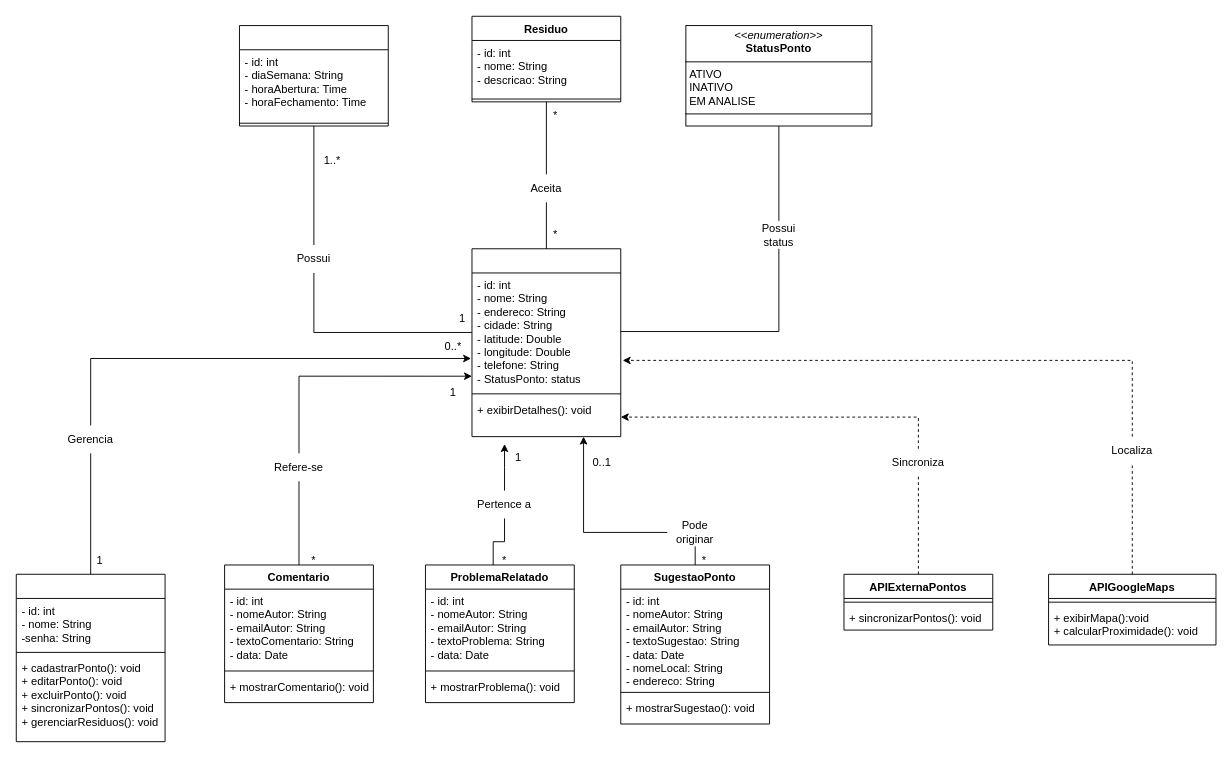
This 1232x761 diagram has some shape labels left out. The shapes that lost their labels are listed below. From the top down, each one's box as (x1, y1, x2, y2) in pixels, then its label:
(239, 25, 388, 126): HorarioFuncionamento
(471, 248, 621, 437): PontoColeta
(15, 573, 165, 742): Administrador
